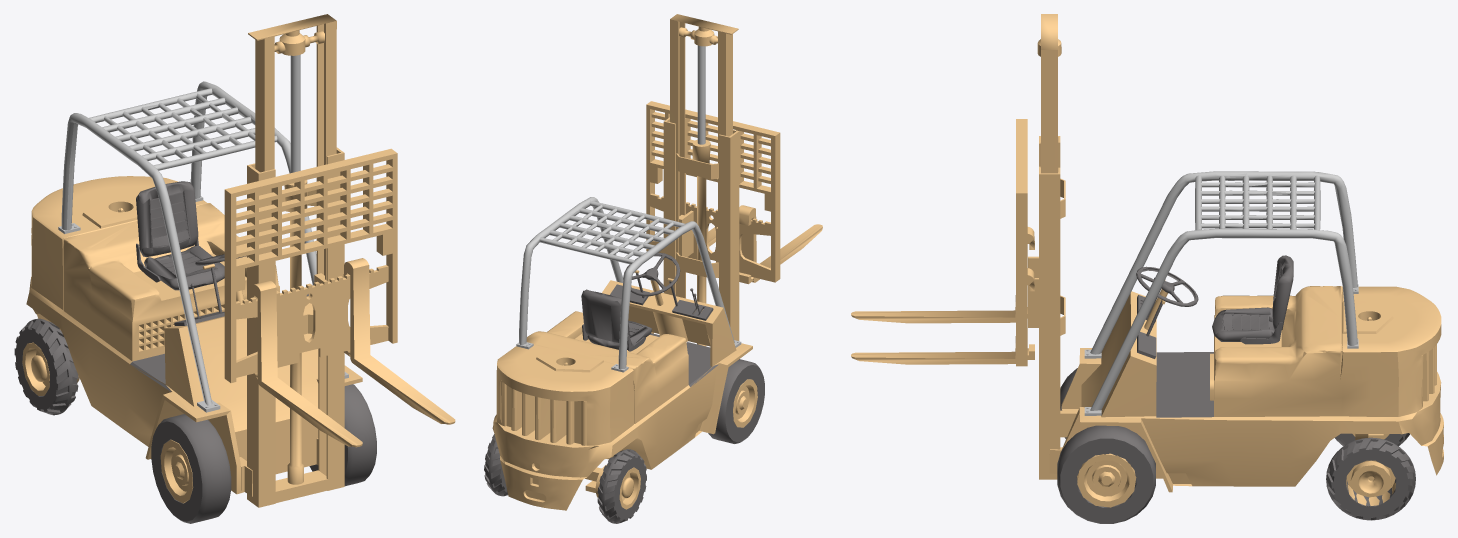
Rendered from carrinho.gltf.
The picture shows the model from 3 angles, left to right: view 1: azimuth 30°, elevation 25°; view 2: azimuth 150°, elevation 25°; view 3: azimuth 270°, elevation 25°; orthographic projection. The views are drawn at different scales.
Visible parts, largest first — view 1: ELT_BODY, ELT_ELV1, ELT_COVR, ELT_ELV2, ELT_TIR3, ELT_SEAT, ELT_TIR4, ELT_TIR1, ELT_MAG3, ELT_ROD1, ELT_MAG4, ELT_GRO2; view 2: ELT_BODY, ELT_ELV1, ELT_COVR, ELT_ELV2, ELT_SEAT, ELT_TIR3, ELT_TIR4, ELT_MAG4, ELT_MAG3, ELT_ROD1, ELT_TIR2, ELT_GRO2 (+2 smaller); view 3: ELT_BODY, ELT_COVR, ELT_ELV1, ELT_ELV2, ELT_TIR1, ELT_TIR2, ELT_GRO2, ELT_SEAT, ELT_MAG1, ELT_MAG2, ELT_WDR1.
Boxes of the visible parts, x1=… form: ELT_BODY: x1=26, y1=176, x2=362, y2=496; ELT_ELV1: x1=224, y1=14, x2=455, y2=447; ELT_COVR: x1=58, y1=81, x2=348, y2=412; ELT_ELV2: x1=247, y1=147, x2=344, y2=507; ELT_TIR3: x1=151, y1=414, x2=231, y2=523; ELT_SEAT: x1=136, y1=181, x2=224, y2=290; ELT_TIR4: x1=14, y1=318, x2=78, y2=415; ELT_TIR1: x1=309, y1=384, x2=376, y2=486; ELT_MAG3: x1=160, y1=439, x2=193, y2=503; ELT_ROD1: x1=290, y1=54, x2=300, y2=172; ELT_MAG4: x1=22, y1=342, x2=79, y2=395; ELT_GRO2: x1=130, y1=353, x2=170, y2=391; ELT_BODY: x1=492, y1=280, x2=752, y2=510; ELT_ELV1: x1=646, y1=14, x2=822, y2=284; ELT_COVR: x1=516, y1=197, x2=741, y2=372; ELT_ELV2: x1=663, y1=117, x2=739, y2=346; ELT_SEAT: x1=581, y1=289, x2=651, y2=351; ELT_TIR3: x1=708, y1=359, x2=764, y2=443; ELT_TIR4: x1=597, y1=449, x2=646, y2=523; ELT_MAG4: x1=585, y1=464, x2=640, y2=509; ELT_MAG3: x1=733, y1=379, x2=757, y2=427; ELT_ROD1: x1=697, y1=45, x2=705, y2=144; ELT_TIR2: x1=484, y1=434, x2=507, y2=496; ELT_GRO2: x1=650, y1=333, x2=718, y2=386; ELT_BODY: x1=1049, y1=286, x2=1443, y2=492; ELT_COVR: x1=1084, y1=171, x2=1358, y2=415; ELT_ELV1: x1=851, y1=14, x2=1065, y2=366; ELT_ELV2: x1=1039, y1=136, x2=1060, y2=479; ELT_TIR1: x1=1057, y1=425, x2=1155, y2=523; ELT_TIR2: x1=1326, y1=437, x2=1415, y2=520; ELT_GRO2: x1=1156, y1=352, x2=1213, y2=417; ELT_SEAT: x1=1212, y1=255, x2=1293, y2=344; ELT_MAG1: x1=1077, y1=453, x2=1136, y2=507; ELT_MAG2: x1=1346, y1=460, x2=1395, y2=505; ELT_WDR1: x1=1136, y1=266, x2=1198, y2=306.
Bounding box in the file's own units: 2.33 × 6.33 × 7.5.
